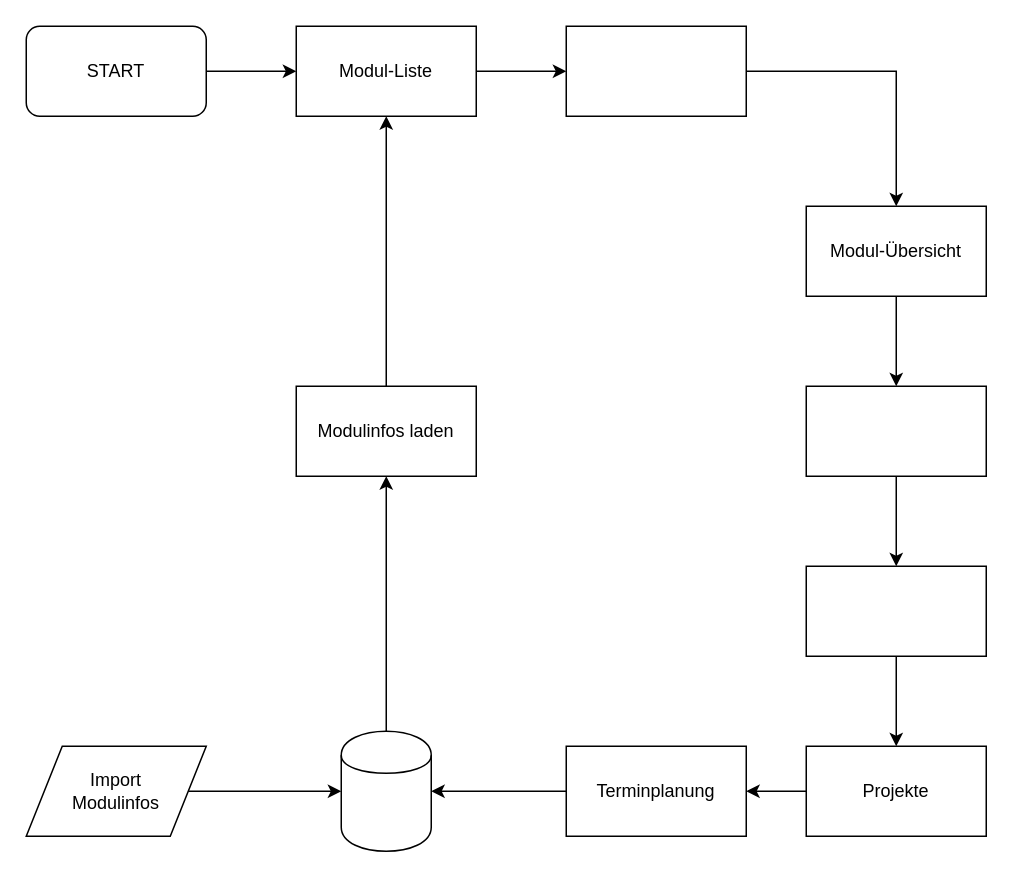
Image size: 1013x878. Some labels were removed from this diagram. Each missing label, with the centre of its shape:
"Einzelne Module" goes at [655,70].
"JSON" goes at [385,790].
"Primärziele (Prüfungsdaten)" goes at [895,430].
"Sekundärziele (Aufgaben)" goes at [895,610].
